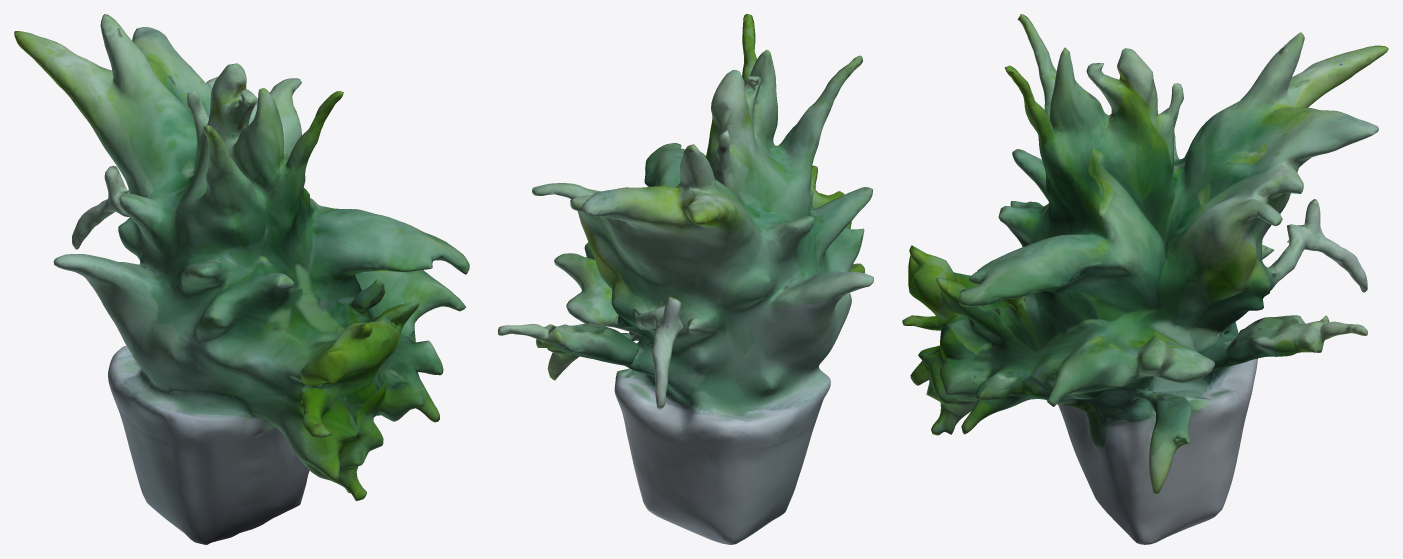
The picture shows the model from 3 angles, left to right: view 1: azimuth 30°, elevation 25°; view 2: azimuth 150°, elevation 25°; view 3: azimuth 270°, elevation 25°; orthographic projection. The views are drawn at different scales.
Size of the model in its own units: 0.9322 by 1.2 by 1.11.
1 material, 1 textured.
